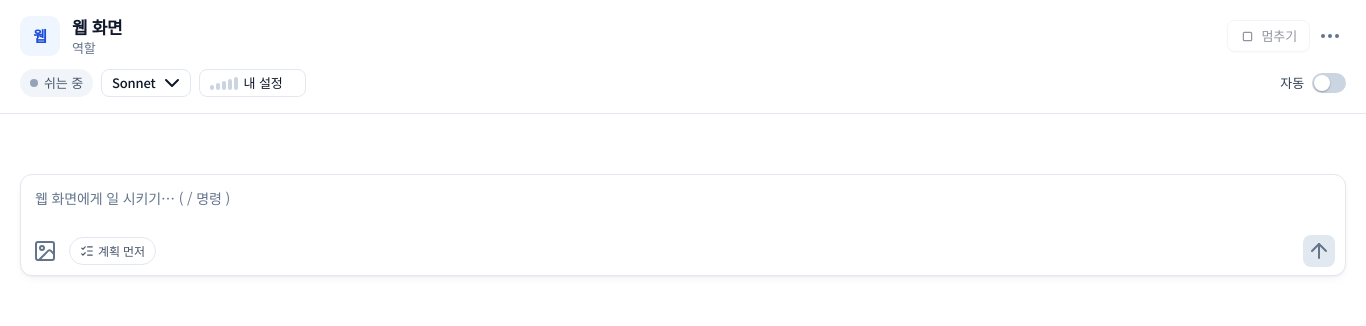
it: ModelPicker › describe 가 실패하면 칩은 그대로, 목록에 실패 줄과 다시 시도
Click the button with aria-label "모델". click: (146, 83)
box: [101,69,191,97]
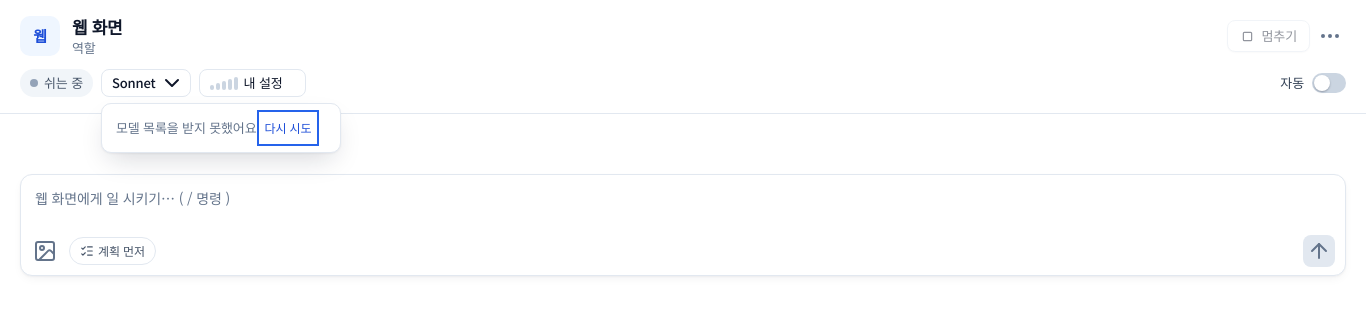
Result: the menu "모델" shows "모델 목록을 받지 못했어요" at [116,118,256,137]
Press Escape in the menu "모델", box [101,103,341,153]
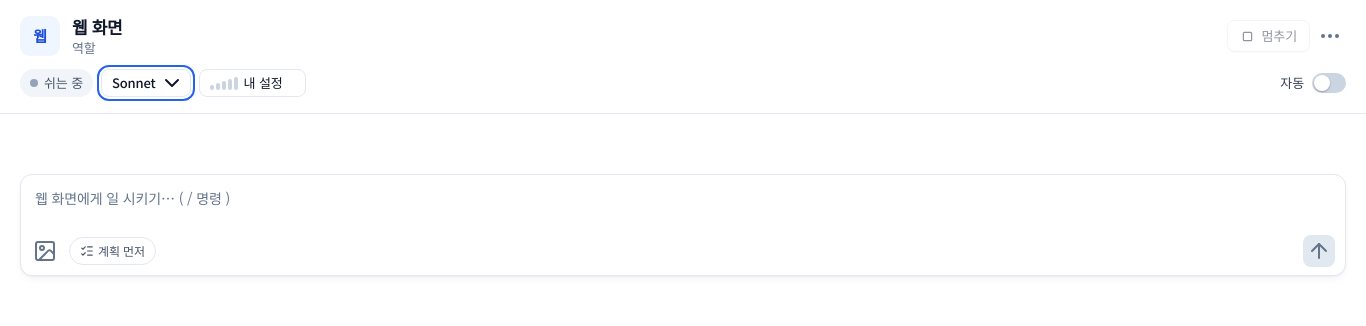
Click the button with aria-label "모델". click: (146, 83)
box: [101,69,191,97]
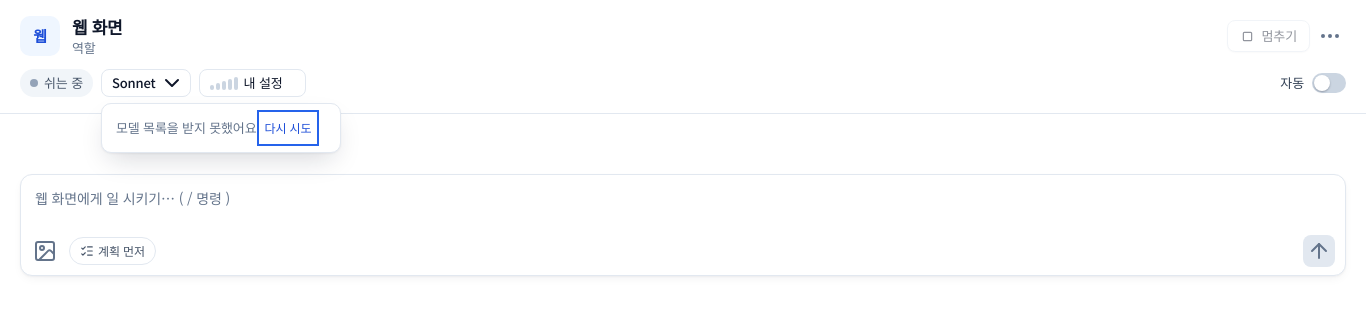
Click the button "다시 시도". click: (288, 128)
box: [260,114,315,142]
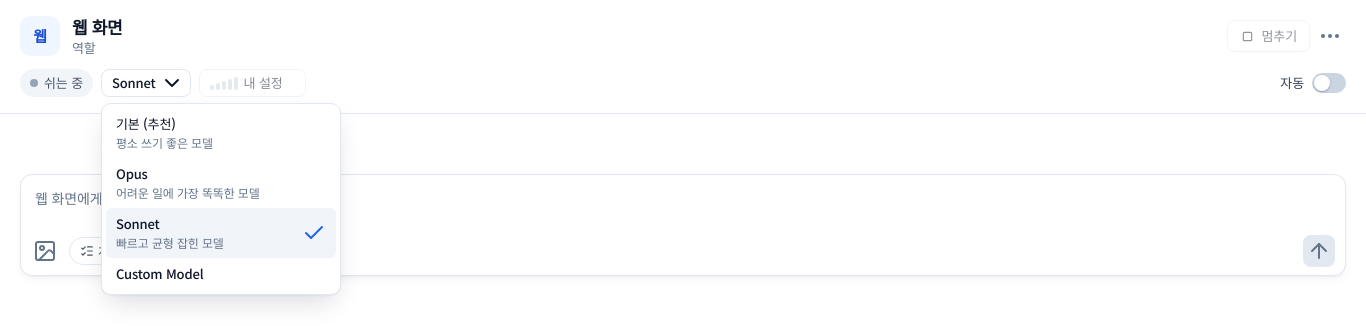
Result: the number of menu items is 4 at [106,108,336,158]; [106,158,336,208]; [106,208,336,258]; [106,258,336,290]
